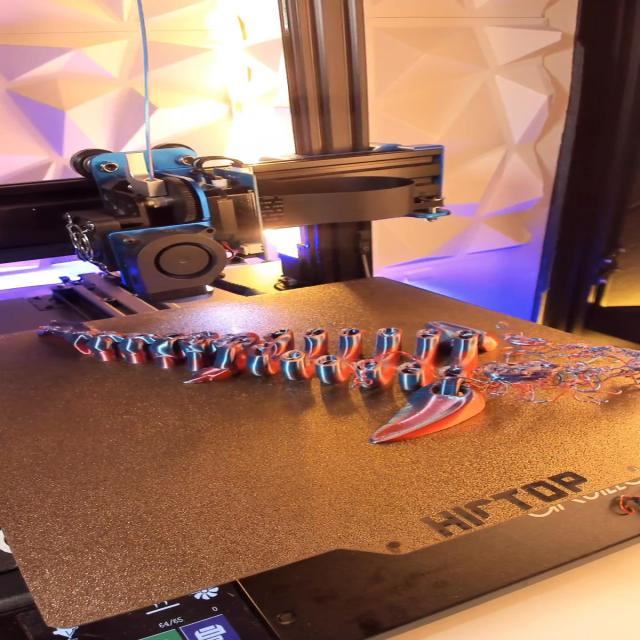spaghetti: (498, 327, 640, 408)
